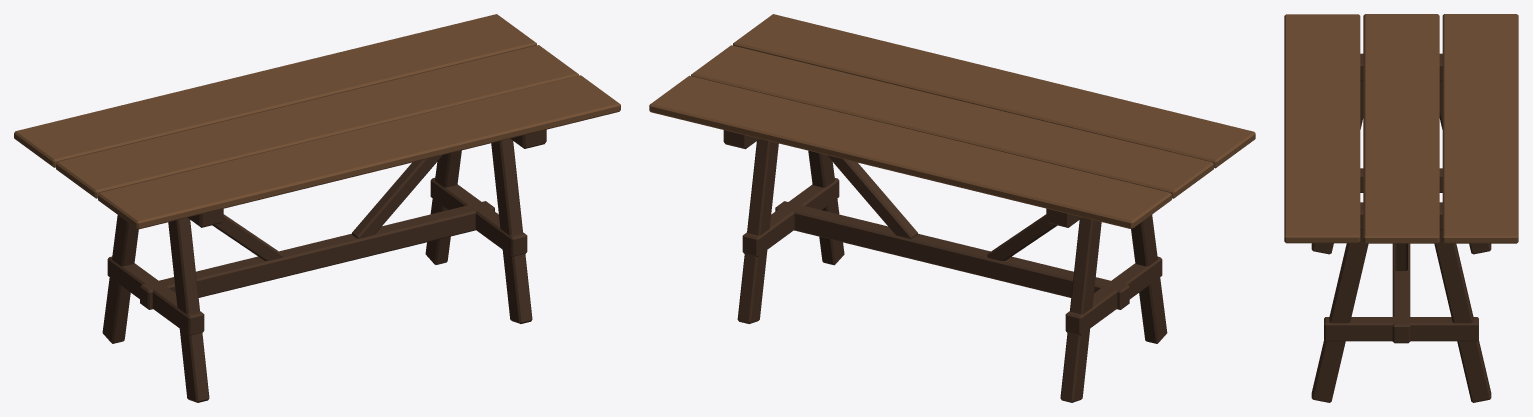
Rendered from trestle_table.glb.
3 views of the same model, side by side, from view 1: azimuth 30°, elevation 25°; view 2: azimuth 150°, elevation 25°; view 3: azimuth 270°, elevation 25° (orthographic). The views are drawn at different scales.
Parts seen in each view (by area): view 1: trestle_table; view 2: trestle_table; view 3: trestle_table.
Boxes of the visible parts, x1=… form: trestle_table: x1=14, y1=14, x2=620, y2=402; trestle_table: x1=649, y1=14, x2=1255, y2=402; trestle_table: x1=1284, y1=14, x2=1518, y2=402.
Bounding box in the file's own units: 1.8 × 0.76 × 0.8.
